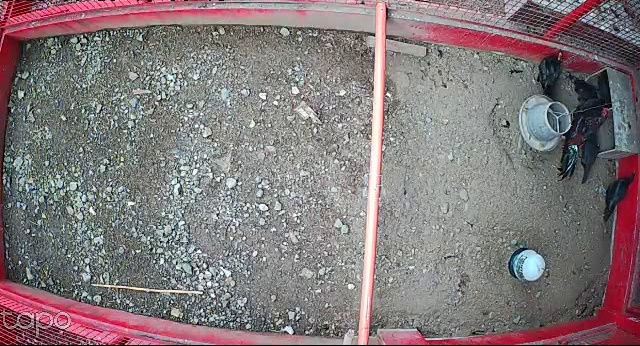Chicken: (600, 170, 636, 221), (530, 48, 565, 100), (578, 130, 604, 184)
Drinker: (506, 247, 546, 283)
Feeder: (517, 92, 572, 153)
Rooster: (553, 107, 610, 179)
